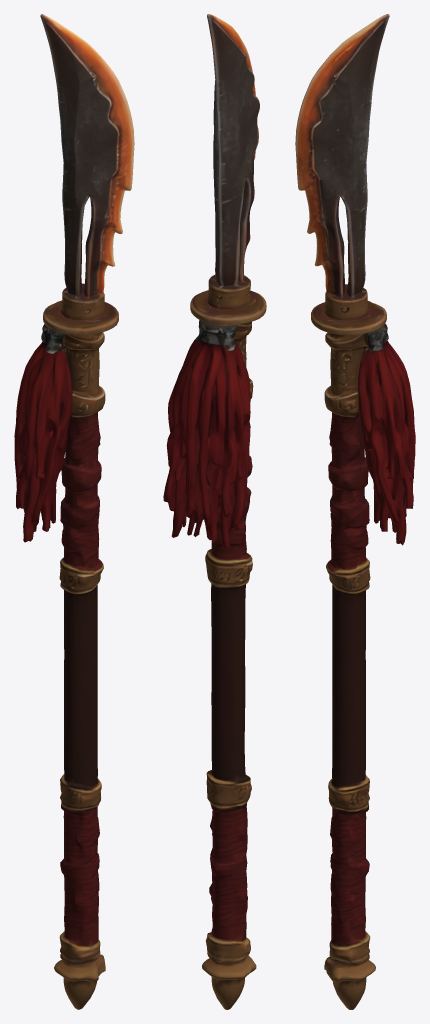
The model's file is look-weapon-t6-tripo.glb.
The picture shows the model from 3 angles, left to right: view 1: azimuth 90°, elevation 25°; view 2: azimuth 150°, elevation 25°; view 3: azimuth 270°, elevation 25°; orthographic projection.
Visible parts, largest first — view 1: tripo_node_14f9be69-9c2e-4449-bf76-28435c9905cd; view 2: tripo_node_14f9be69-9c2e-4449-bf76-28435c9905cd; view 3: tripo_node_14f9be69-9c2e-4449-bf76-28435c9905cd.
Boxes of the visible parts, <box> form: tripo_node_14f9be69-9c2e-4449-bf76-28435c9905cd: <box>14,14,134,1009</box>; tripo_node_14f9be69-9c2e-4449-bf76-28435c9905cd: <box>163,14,266,1009</box>; tripo_node_14f9be69-9c2e-4449-bf76-28435c9905cd: <box>295,14,415,1009</box>.
Bounding box in the file's own units: 0.0781 × 1 × 0.1094.
1 material, 1 textured.
